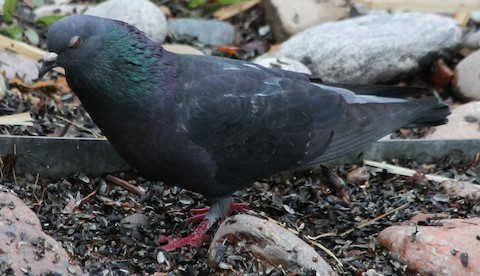pigeon: (33, 9, 455, 261)
